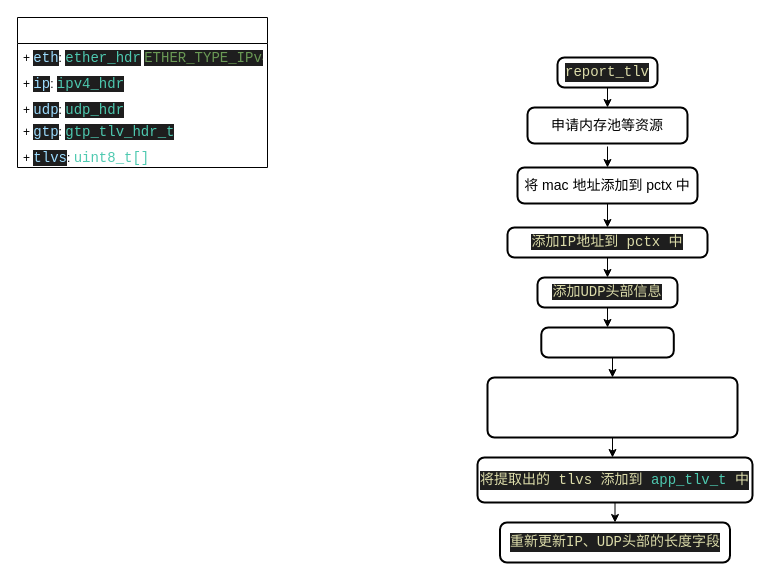
This 771x581 diagram has some shape labels left out. The shapes that lost their labels are listed below. From the top down, each one's box as (x1, y1, x2, y2) in pixels, then its label:
(16, 16, 268, 168): _report_pkt_t
(540, 326, 674, 358): 添加gtp信息
(486, 376, 738, 438): 调用pat_memcpy()函数添加 流的上下包数、字节数、总包数等信息到 app_tlv_t 中
